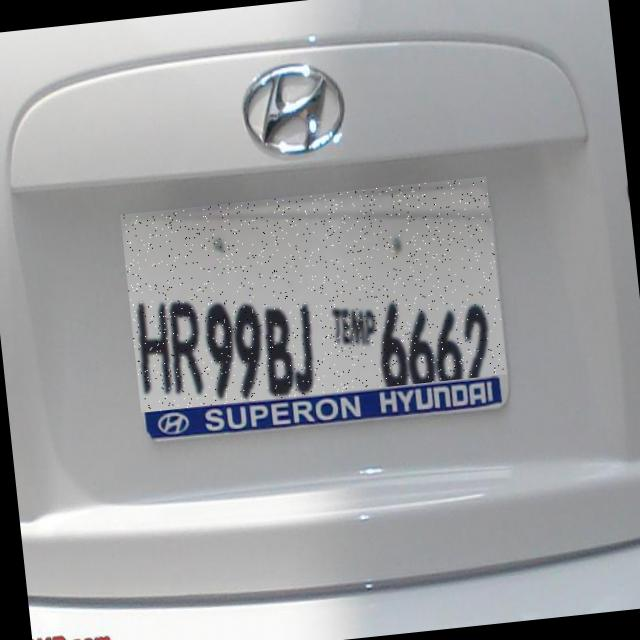Plate: (121, 177, 508, 413)
